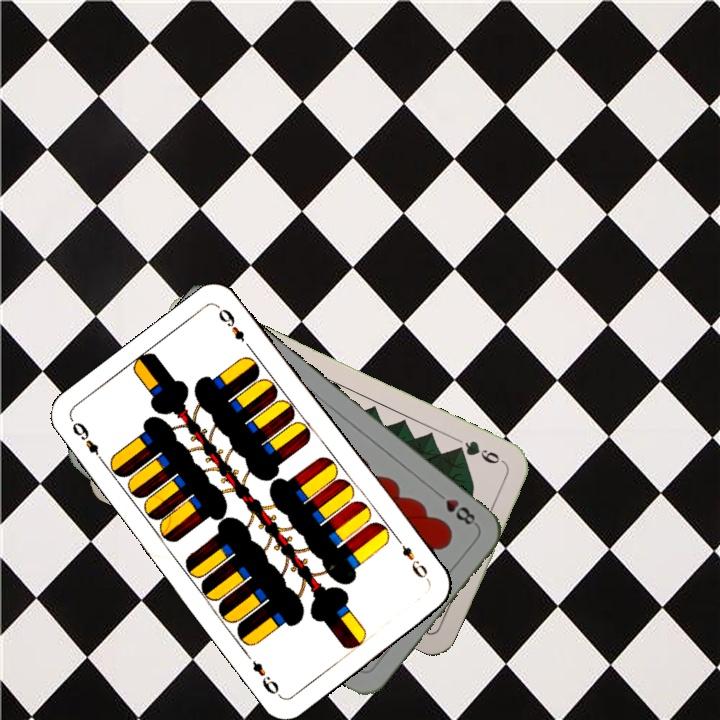E9: (392, 534, 433, 585), (68, 416, 108, 467)
G9: (450, 436, 509, 468)
H8: (431, 487, 480, 529)
